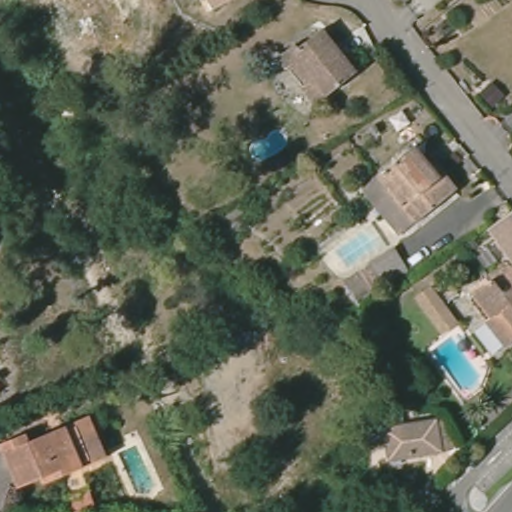pool: (431, 333, 485, 398), (328, 225, 387, 270), (119, 440, 158, 498), (242, 130, 290, 160)
